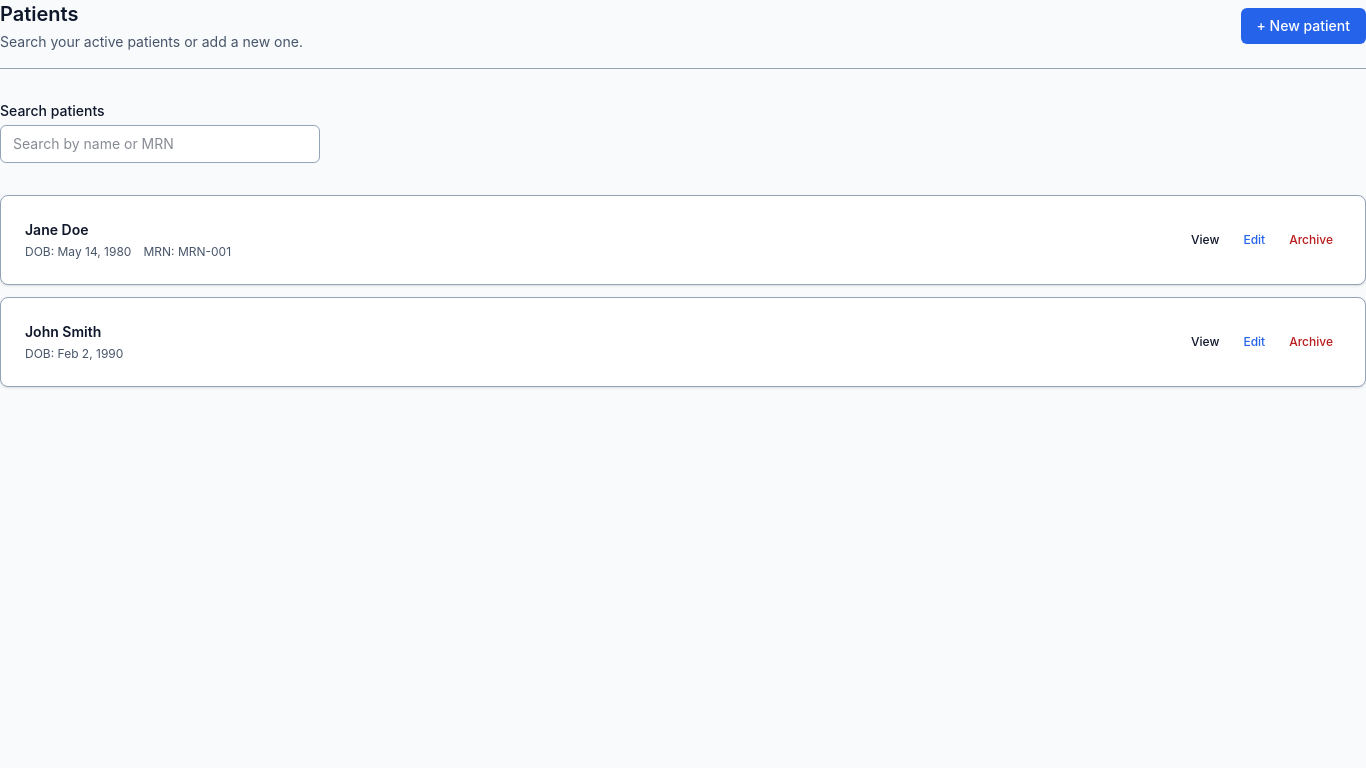
Scenario: PatientsPage › archives a patient and removes it from the list on success
Expected: the link "Jane Doe" is shown, [25,221,88,238]
Click the button with aria-label "Archive Jane Doe": [1311, 240] box [1281,228,1341,252]
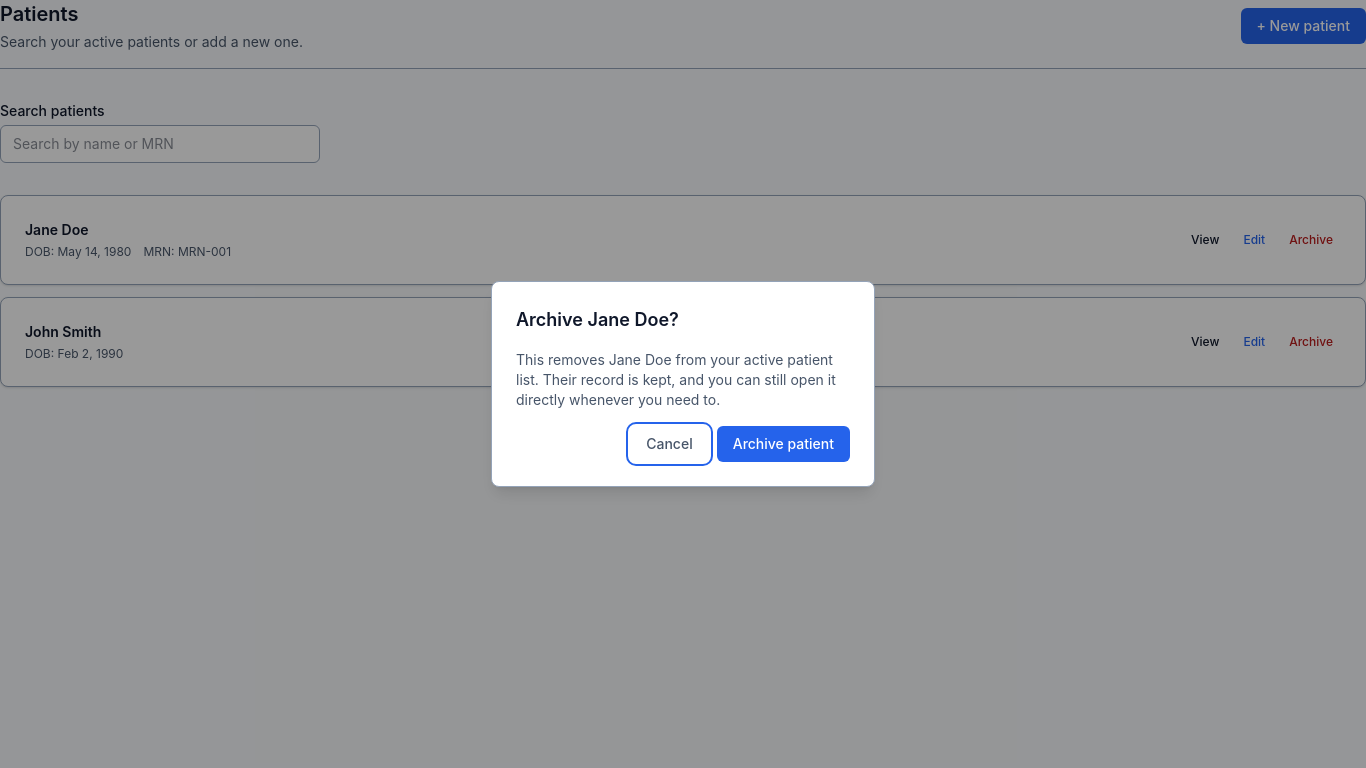
Click the button "Archive patient": [783, 444] box [717,426,850,462]
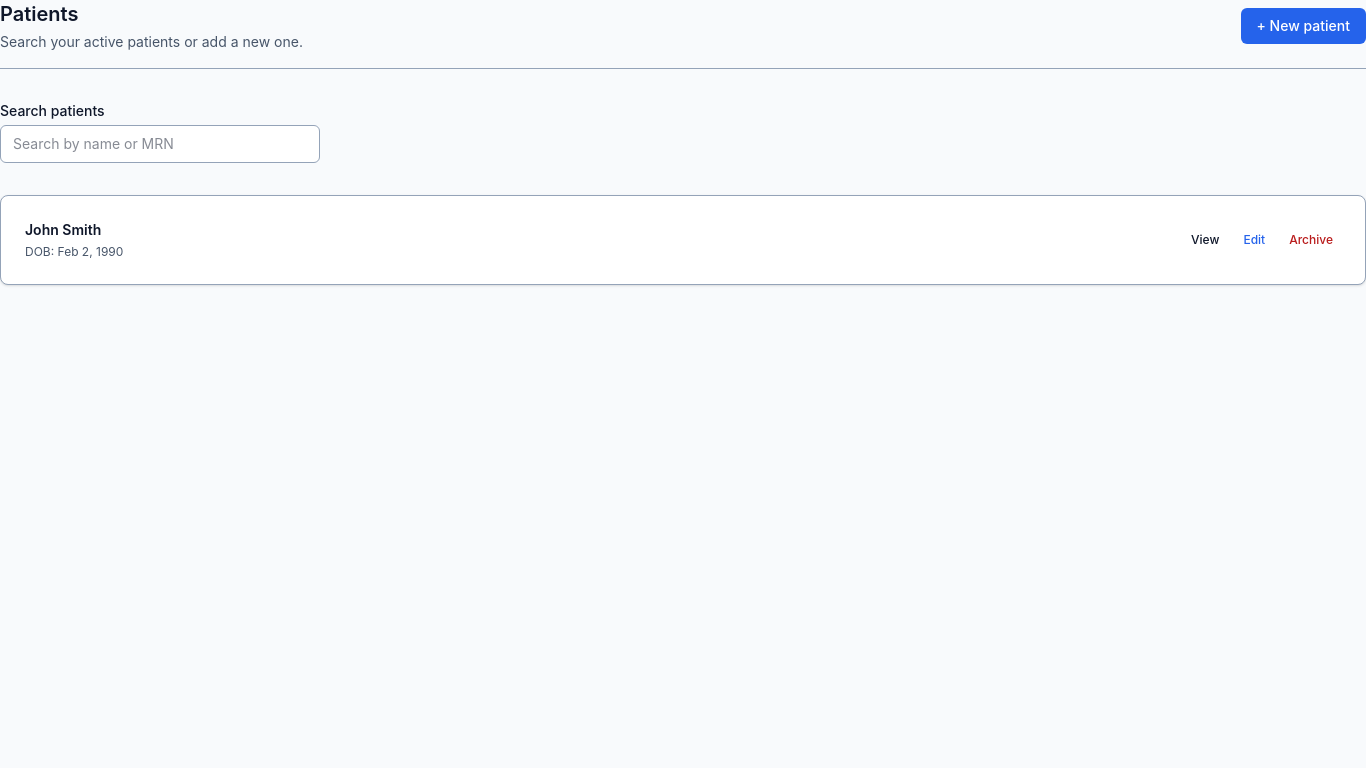
Expected: the link "John Smith" is shown, [25,221,101,238]
Now the link "Jane Doe" is gone
